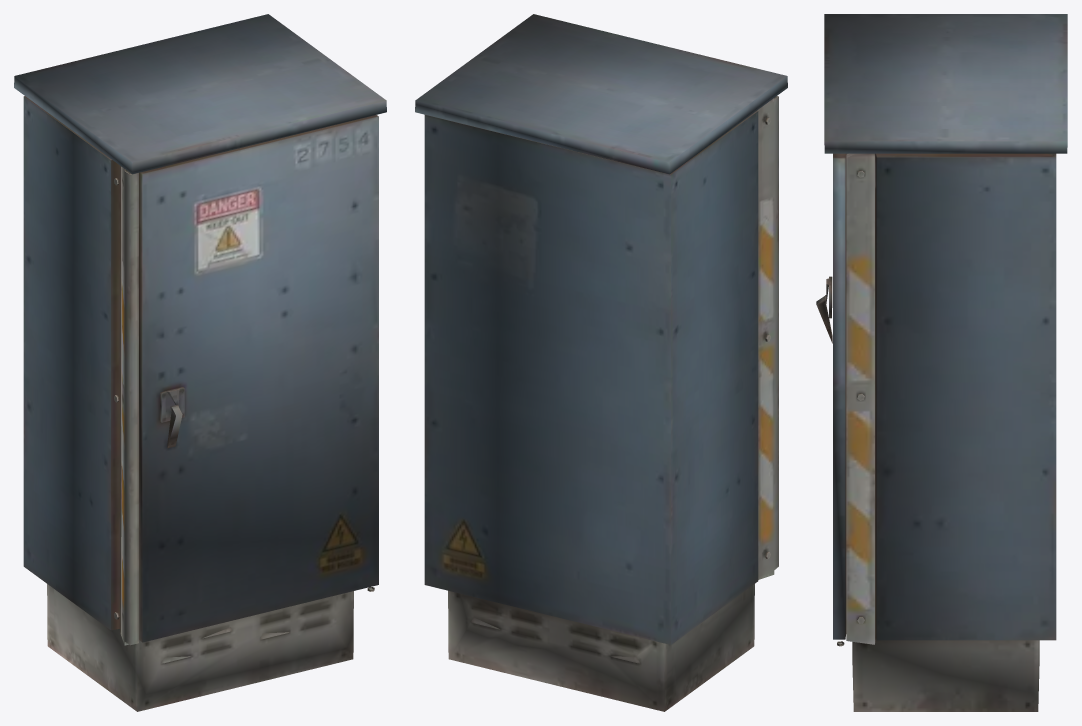
Rendered from utility_box_01.glb.
3 views of the same model, side by side, from view 1: azimuth 30°, elevation 25°; view 2: azimuth 150°, elevation 25°; view 3: azimuth 270°, elevation 25° (orthographic). The views are drawn at different scales.
Parts seen in each view (by area): view 1: utility_box_01_box; view 2: utility_box_01_box; view 3: utility_box_01_box.
Part boxes in pixels (x1=…): utility_box_01_box: x1=14, y1=14, x2=386, y2=711; utility_box_01_box: x1=415, y1=14, x2=787, y2=711; utility_box_01_box: x1=816, y1=14, x2=1067, y2=711.
Size of the model in its own units: 0.5157 by 1.09 by 0.4287.
Materials: 1 (1 with a texture image).
